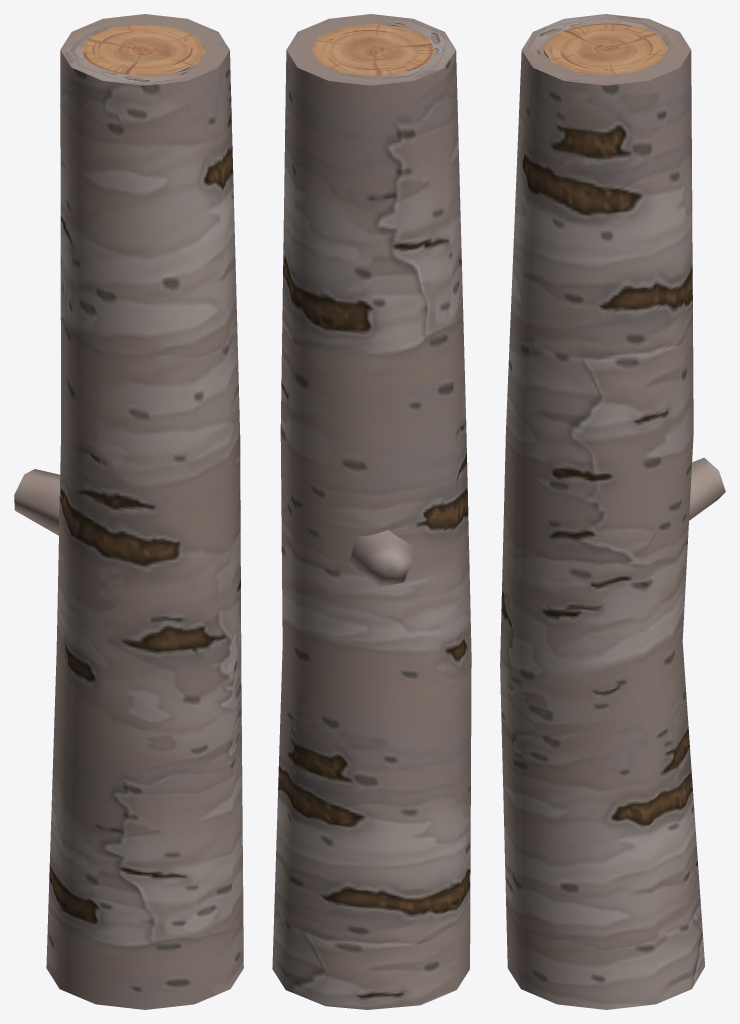
The model's file is obj_harvests_trees_birch02_p01.fbx.
The picture shows the model from 3 angles, left to right: view 1: azimuth 30°, elevation 25°; view 2: azimuth 150°, elevation 25°; view 3: azimuth 270°, elevation 25°; orthographic projection.
Parts seen in each view (by area): view 1: chunk01; view 2: chunk01; view 3: chunk01.
Boxes of the visible parts, x1,y1,x2,y2 form: chunk01: [14, 14, 243, 1009]; chunk01: [272, 14, 471, 1009]; chunk01: [500, 14, 725, 1009].
Bounding box in the file's own units: 1.56 × 8 × 1.78.
